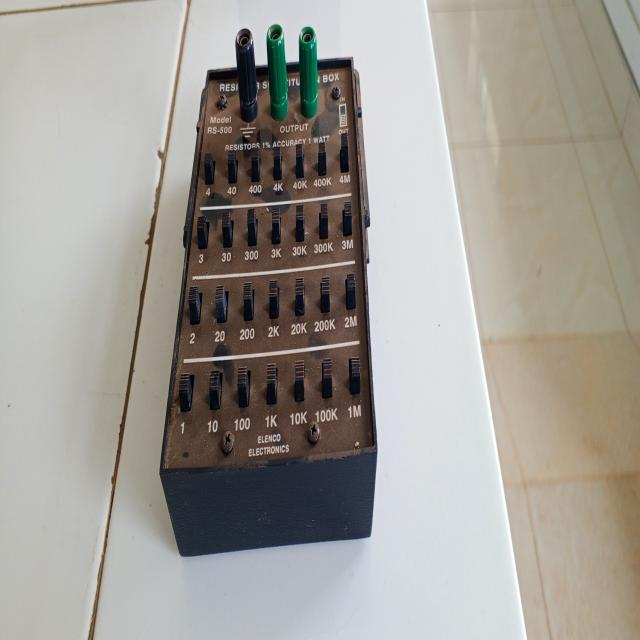Set of Resistances: (162, 8, 384, 563)
